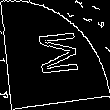M_W: (29, 29, 81, 81)
